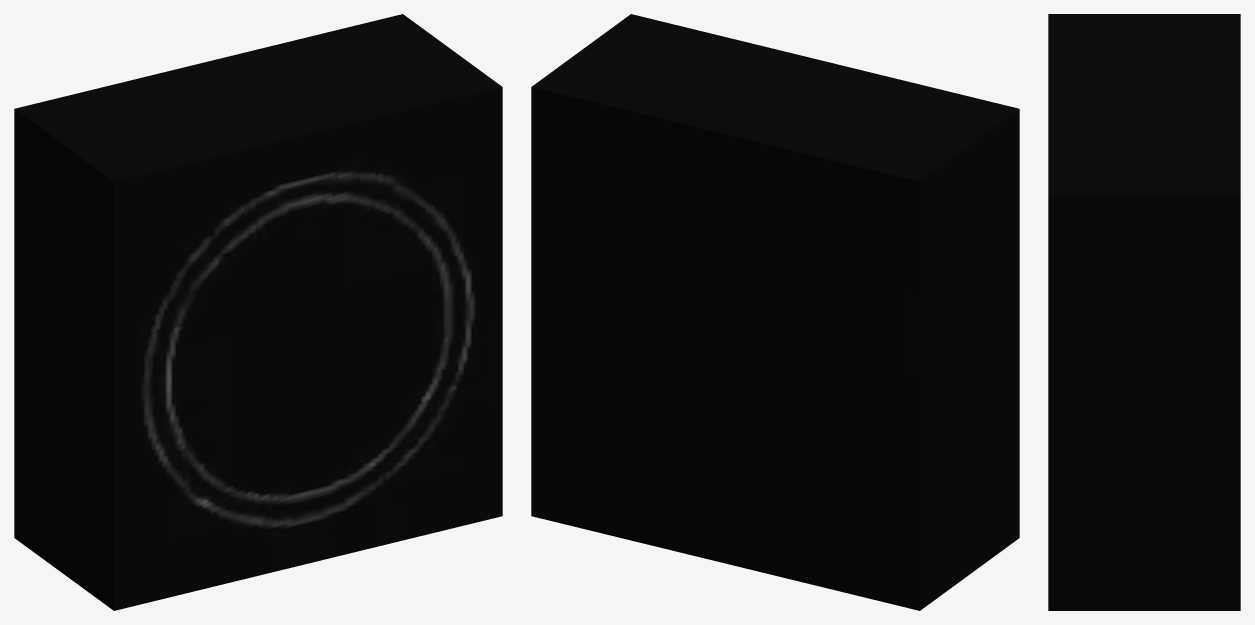
The model's file is body__spine.glb.
The picture shows the model from 3 angles, left to right: view 1: azimuth 30°, elevation 25°; view 2: azimuth 150°, elevation 25°; view 3: azimuth 270°, elevation 25°; orthographic projection. The views are drawn at different scales.
Visible parts, largest first — view 1: geometry_0; view 2: geometry_0; view 3: geometry_0.
Boxes of the visible parts, <box> form: geometry_0: <box>14,14,502,610</box>; geometry_0: <box>531,14,1019,610</box>; geometry_0: <box>1048,14,1240,610</box>.
Size of the model in its own units: 0.09 by 0.095 by 0.04.
1 material, 1 textured.
